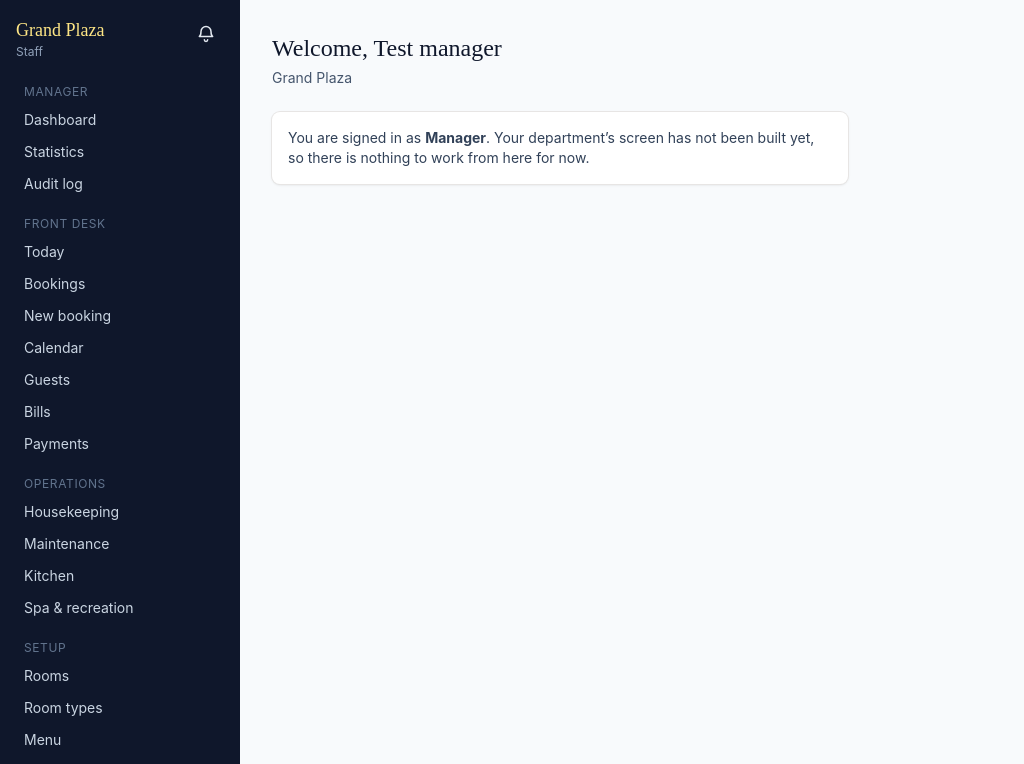
Test: the notification bell › says so when there is nothing
What coordinates should you click on to do the following:
click the button named "Notifications"
I would click on:
 (206, 34)
Its box is [188,16,224,52].
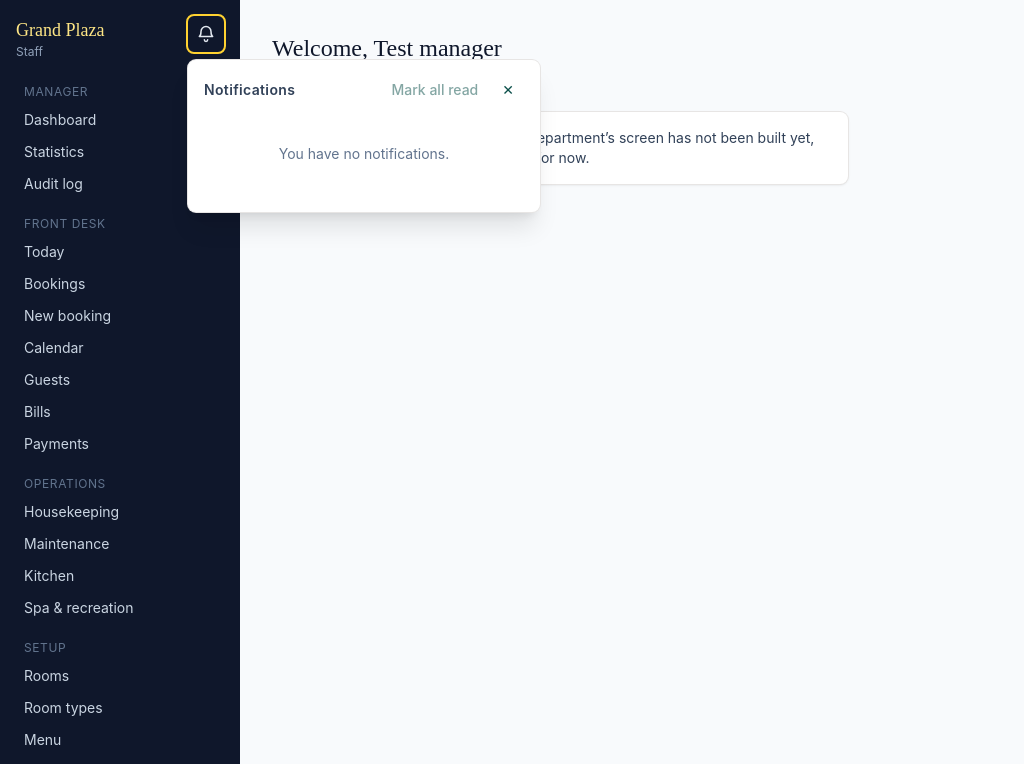
Expected: the text "You have no notifications." is shown, [279,145,449,162]
